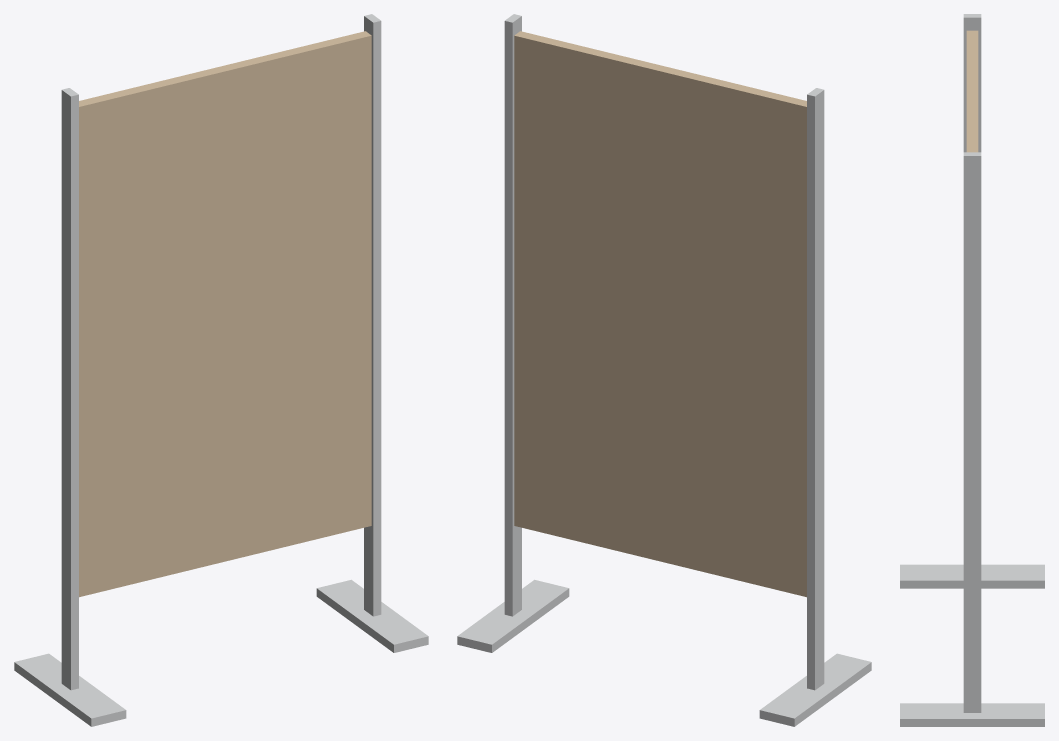
The model's file is Display_Panel.fbx.
3 renders of one model, left to right at view 1: azimuth 30°, elevation 25°; view 2: azimuth 150°, elevation 25°; view 3: azimuth 270°, elevation 25°, orthographic. The views are drawn at different scales.
Visible parts, largest first — view 1: Display_Panel; view 2: Display_Panel; view 3: Display_Panel.
Boxes of the visible parts, left/top/right/bottom form: Display_Panel: left=14, top=14, right=428, bottom=726; Display_Panel: left=457, top=14, right=871, bottom=726; Display_Panel: left=900, top=14, right=1044, bottom=726.
Size of the model in its own units: 1.26 by 2.15 by 0.5.
